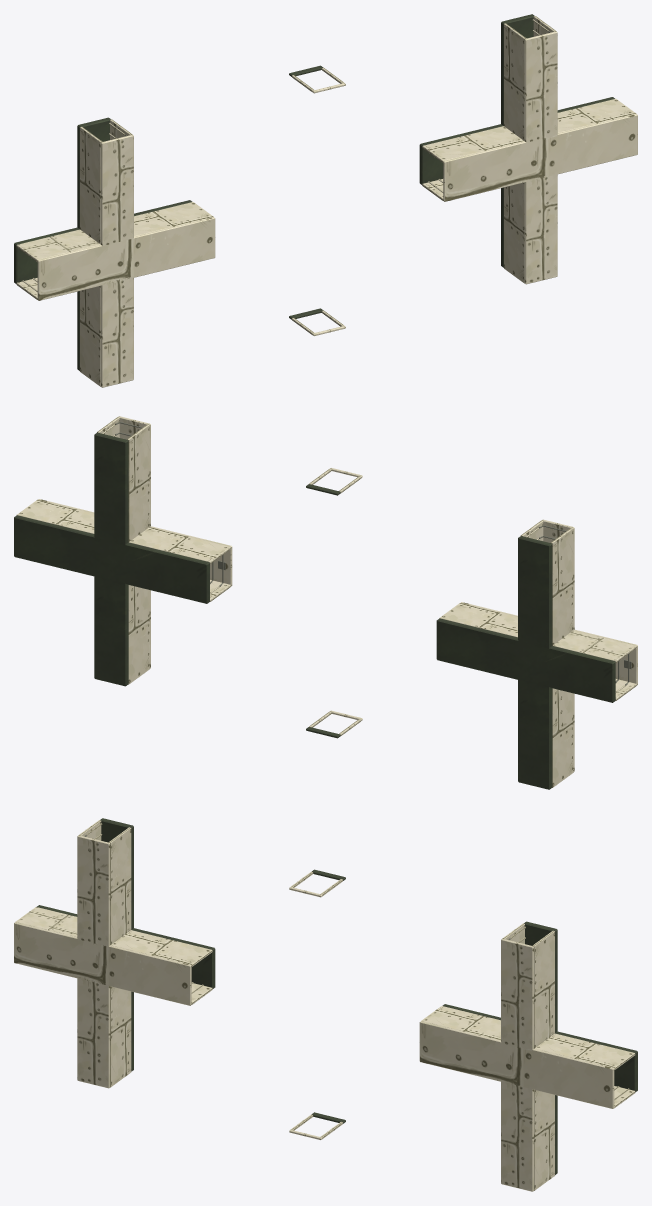
The model's file is ECHO7_02_Pasillos.obj.
3 renders of one model, top to bottom at view 1: azimuth 30°, elevation 25°; view 2: azimuth 150°, elevation 25°; view 3: azimuth 330°, elevation 25°, orthographic.
Visible parts, largest first — view 1: ECHO7_02_Pasillos__Techo_pasillo_02, ECHO7_02_Pasillos__Techo_pasillo_01, ECHO7_02_Pasillos__Techo_pasillo_06, ECHO7_02_Pasillos__Techo_pasillo_05, ECHO7_02_Pasillos__Techo_pasillo_04, ECHO7_02_Pasillos__Techo_pasillo_03, ECHO7_02_Pasillos__Pared_pasillo_12, ECHO7_02_Pasillos__Pared_pasillo_16, ECHO7_02_Pasillos__Pared_pasillo_13, ECHO7_02_Pasillos__Pared_pasillo_09, ECHO7_02_Pasillos__Pared_pasillo_07, ECHO7_02_Pasillos__Pared_pasillo_04 (+6 smaller); view 2: ECHO7_02_Pasillos__Suelo_pasillo_02, ECHO7_02_Pasillos__Suelo_pasillo_01, ECHO7_02_Pasillos__Suelo_pasillo_06, ECHO7_02_Pasillos__Suelo_pasillo_04, ECHO7_02_Pasillos__Suelo_pasillo_05, ECHO7_02_Pasillos__Suelo_pasillo_03, ECHO7_02_Pasillos__Pared_pasillo_12, ECHO7_02_Pasillos__Pared_pasillo_16, ECHO7_02_Pasillos__Pared_pasillo_13, ECHO7_02_Pasillos__Pared_pasillo_09, ECHO7_02_Pasillos__Pared_pasillo_07, ECHO7_02_Pasillos__Pared_pasillo_04 (+6 smaller); view 3: ECHO7_02_Pasillos__Techo_pasillo_02, ECHO7_02_Pasillos__Techo_pasillo_01, ECHO7_02_Pasillos__Techo_pasillo_04, ECHO7_02_Pasillos__Techo_pasillo_03, ECHO7_02_Pasillos__Techo_pasillo_06, ECHO7_02_Pasillos__Techo_pasillo_05, ECHO7_02_Pasillos__Pared_pasillo_11, ECHO7_02_Pasillos__Pared_pasillo_15, ECHO7_02_Pasillos__Pared_pasillo_10, ECHO7_02_Pasillos__Pared_pasillo_14, ECHO7_02_Pasillos__Pared_pasillo_04, ECHO7_02_Pasillos__Pared_pasillo_08 (+6 smaller).
Boxes of the visible parts, x1,y1,x2,y2 form: ECHO7_02_Pasillos__Techo_pasillo_02: [443, 114, 637, 201]; ECHO7_02_Pasillos__Techo_pasillo_01: [37, 217, 215, 300]; ECHO7_02_Pasillos__Techo_pasillo_06: [524, 31, 557, 143]; ECHO7_02_Pasillos__Techo_pasillo_05: [524, 173, 557, 284]; ECHO7_02_Pasillos__Techo_pasillo_04: [101, 134, 133, 245]; ECHO7_02_Pasillos__Techo_pasillo_03: [101, 276, 133, 387]; ECHO7_02_Pasillos__Pared_pasillo_12: [80, 126, 102, 244]; ECHO7_02_Pasillos__Pared_pasillo_16: [504, 23, 526, 140]; ECHO7_02_Pasillos__Pared_pasillo_13: [504, 182, 524, 283]; ECHO7_02_Pasillos__Pared_pasillo_09: [80, 286, 100, 386]; ECHO7_02_Pasillos__Pared_pasillo_07: [422, 126, 523, 162]; ECHO7_02_Pasillos__Pared_pasillo_04: [134, 202, 213, 236]; ECHO7_02_Pasillos__Suelo_pasillo_02: [14, 515, 209, 603]; ECHO7_02_Pasillos__Suelo_pasillo_01: [436, 618, 615, 702]; ECHO7_02_Pasillos__Suelo_pasillo_06: [94, 432, 128, 545]; ECHO7_02_Pasillos__Suelo_pasillo_04: [518, 536, 552, 648]; ECHO7_02_Pasillos__Suelo_pasillo_05: [94, 576, 128, 686]; ECHO7_02_Pasillos__Suelo_pasillo_03: [518, 679, 552, 789]; ECHO7_02_Pasillos__Pared_pasillo_12: [551, 527, 573, 645]; ECHO7_02_Pasillos__Pared_pasillo_16: [127, 424, 149, 541]; ECHO7_02_Pasillos__Pared_pasillo_13: [128, 585, 149, 684]; ECHO7_02_Pasillos__Pared_pasillo_09: [552, 688, 573, 787]; ECHO7_02_Pasillos__Pared_pasillo_07: [129, 527, 230, 563]; ECHO7_02_Pasillos__Pared_pasillo_04: [439, 603, 517, 637]; ECHO7_02_Pasillos__Techo_pasillo_02: [419, 1021, 614, 1108]; ECHO7_02_Pasillos__Techo_pasillo_01: [14, 922, 191, 1005]; ECHO7_02_Pasillos__Techo_pasillo_04: [77, 835, 110, 947]; ECHO7_02_Pasillos__Techo_pasillo_03: [77, 978, 110, 1088]; ECHO7_02_Pasillos__Techo_pasillo_06: [501, 938, 533, 1051]; ECHO7_02_Pasillos__Techo_pasillo_05: [501, 1081, 533, 1191]; ECHO7_02_Pasillos__Pared_pasillo_11: [108, 827, 131, 944]; ECHO7_02_Pasillos__Pared_pasillo_15: [532, 930, 554, 1048]; ECHO7_02_Pasillos__Pared_pasillo_10: [110, 986, 131, 1087]; ECHO7_02_Pasillos__Pared_pasillo_14: [534, 1090, 554, 1190]; ECHO7_02_Pasillos__Pared_pasillo_04: [111, 930, 212, 966]; ECHO7_02_Pasillos__Pared_pasillo_08: [534, 1033, 635, 1070].
Size of the model in its own units: 56.6 by 22.1 by 4.12.
Materials: 3 (3 with a texture image).
